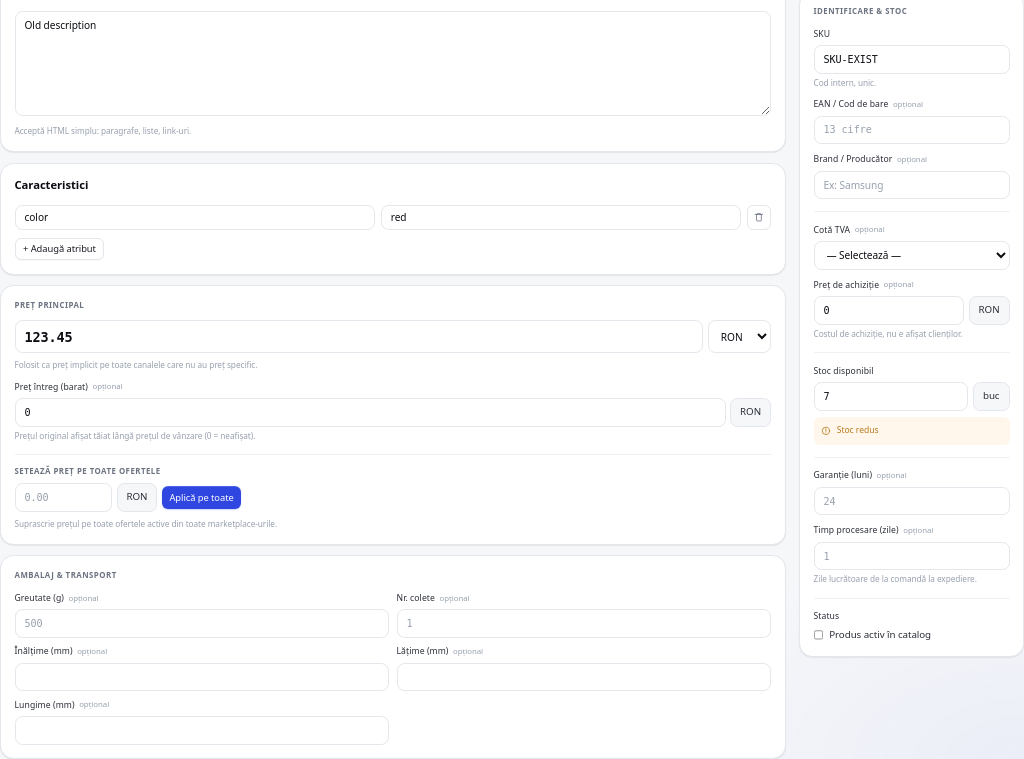
Test: SetAllOffersPrice control › shows success message after successful price apply
This screenshot has width=1024, height=759.
(page scrolled)
Step 1. Type "100" into the number field named "Preț pentru toate ofertele" → (63, 498), box [14,483,112,512]
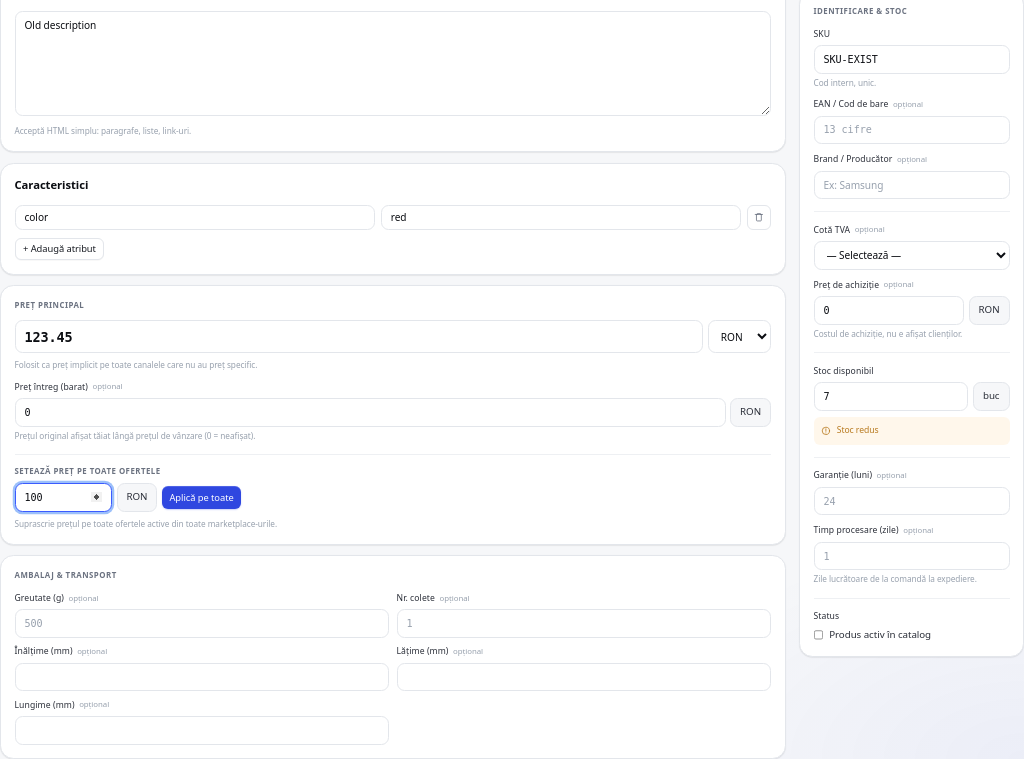
Step 2. Click the button "Aplică pe toate" → (202, 498), box [162,486,241,509]
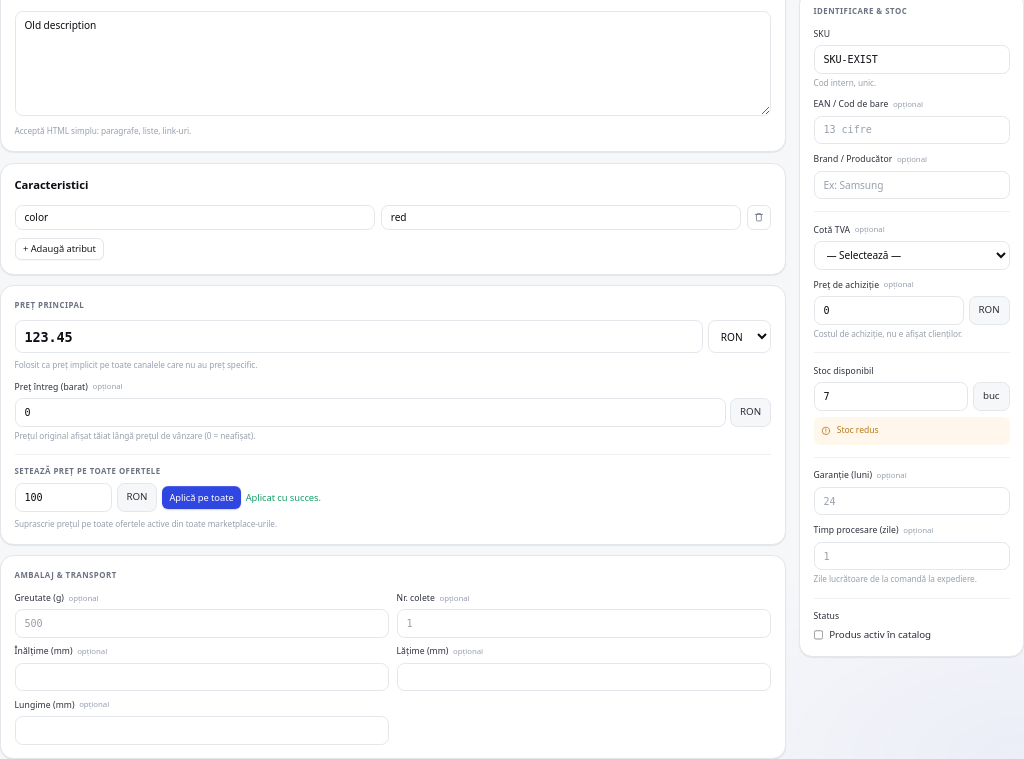
Expected: the text "Aplicat cu succes." is shown, [246,490,321,505]
